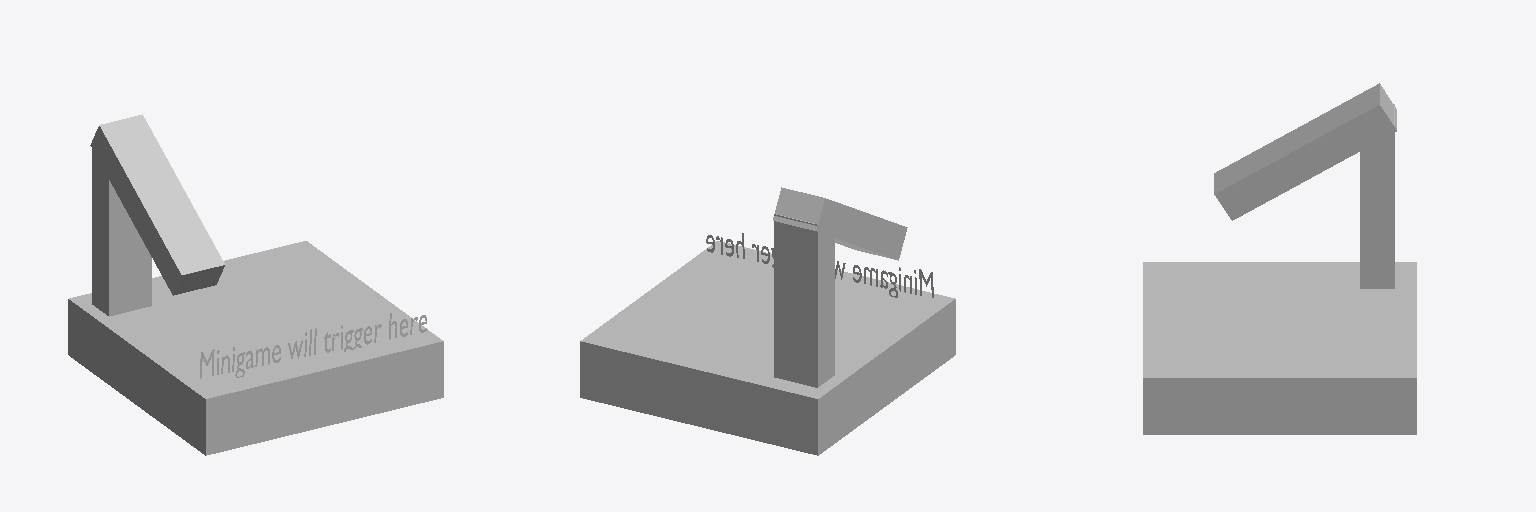
The picture shows the model from 3 angles: view 1: azimuth 30°, elevation 25°; view 2: azimuth 150°, elevation 25°; view 3: azimuth 270°, elevation 25°; orthographic projection.
Visible parts, largest first — view 1: Cube, Cube.002, Cube.001, Test; view 2: Cube, Cube.001, Cube.002, Test; view 3: Cube, Cube.002, Cube.001.
Boxes of the visible parts, box(x1,y1,x2,y2) form: Cube: box(68, 241, 443, 455); Cube.002: box(90, 114, 224, 295); Cube.001: box(92, 141, 151, 316); Test: box(200, 313, 426, 378); Cube: box(580, 241, 955, 455); Cube.001: box(774, 212, 834, 387); Cube.002: box(773, 187, 907, 260); Test: box(706, 233, 933, 297); Cube: box(1143, 262, 1416, 434); Cube.002: box(1214, 83, 1396, 220); Cube.001: box(1360, 104, 1394, 288).
Size of the model in its own units: 2 by 1.94 by 2.